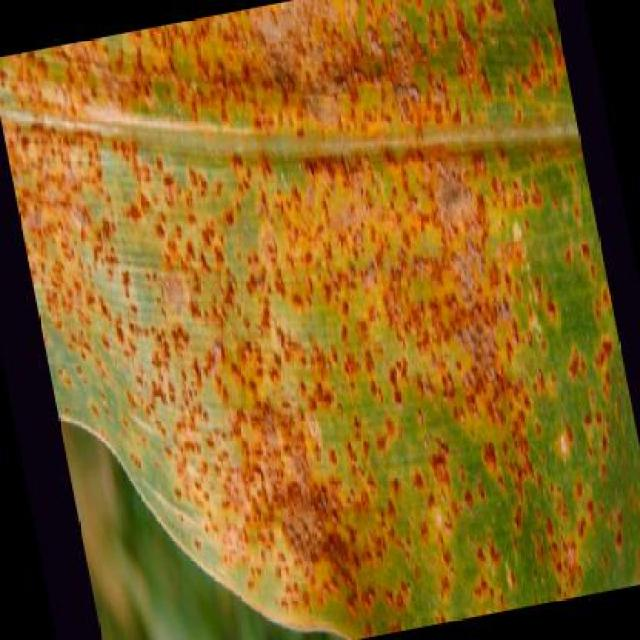Corn_Rust: (90, 48, 564, 604)
